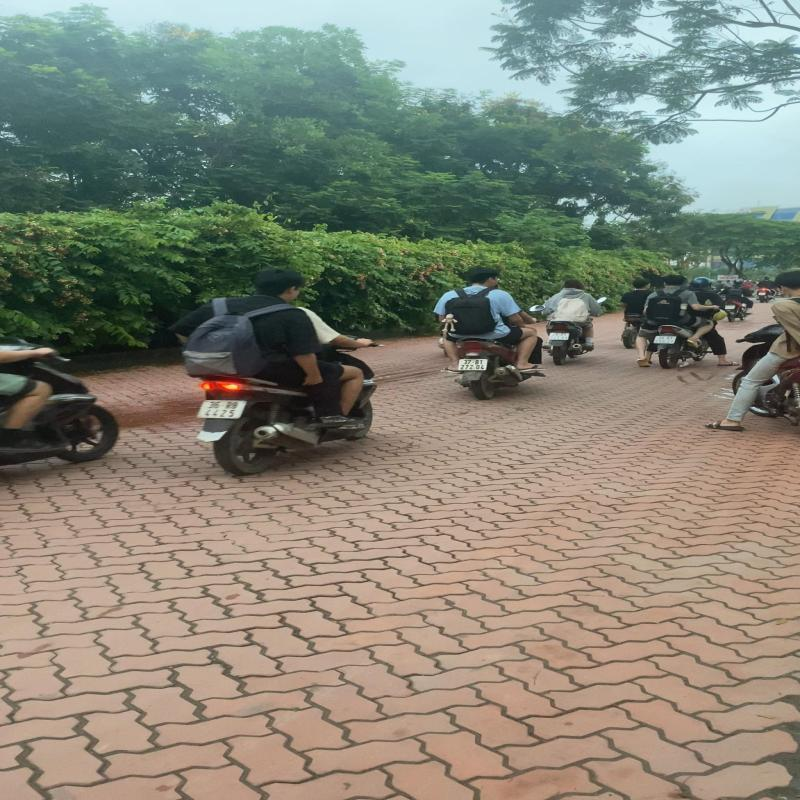licenseplate: (196, 399, 246, 418), (458, 359, 488, 371)
motorcyclist: (164, 266, 382, 478), (430, 265, 552, 400)
nohelmet: (251, 268, 306, 298), (466, 266, 500, 284)
